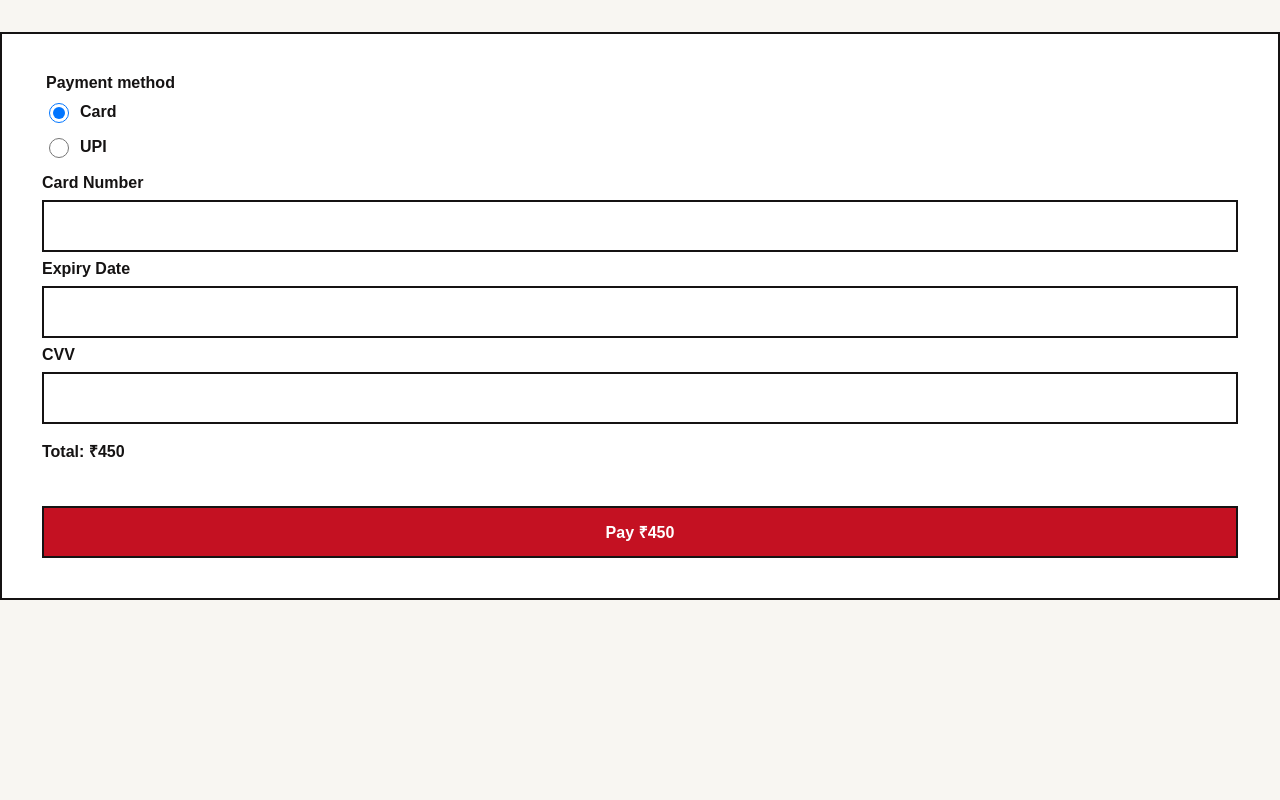
it: checkout › keeps checkout available and does not confirm after a backend failure
Click the button "Pay ₹450" at (640, 532), box [42, 506, 1238, 558]
Wait 2000 ms
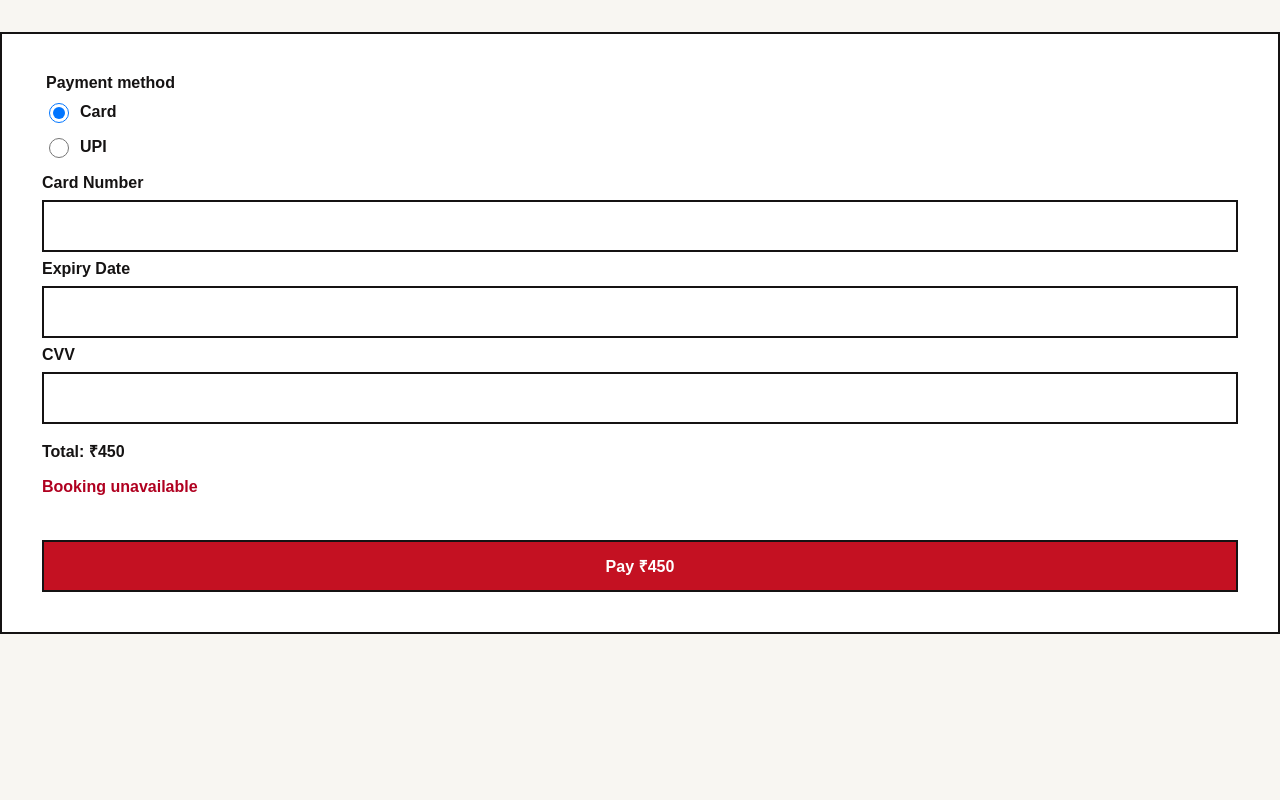
Expected: the button "Pay ₹450" is enabled, [42, 540, 1238, 592]
Expected: the message reads "Booking unavailable", [42, 478, 198, 495]
